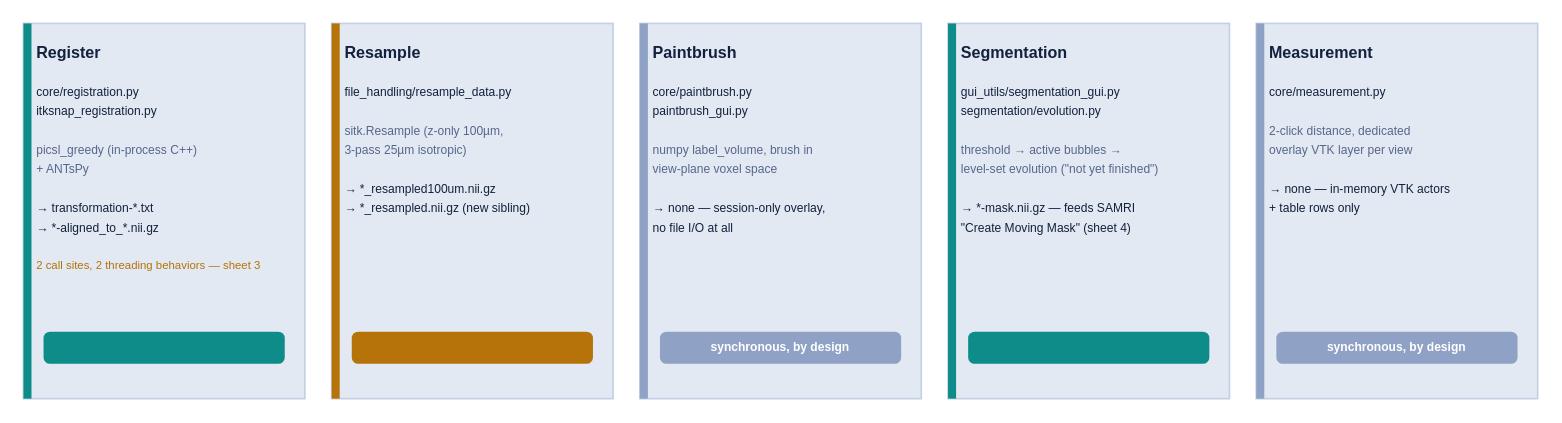
Image size: 1562x423. Some labels were removed from this diagram. Each missing label, with the box of its shape:
moveToThread (evolution only): (967, 331, 1209, 363)
QThread — menu path only: (43, 331, 284, 363)
⚠ BusyOverlay — LOOKS async, isn't: (351, 331, 592, 363)
